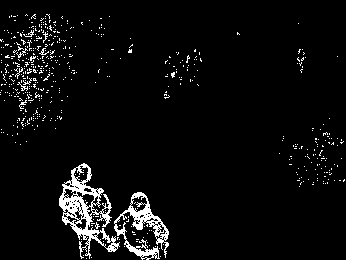person: (58, 160, 116, 260), (108, 191, 170, 260)
